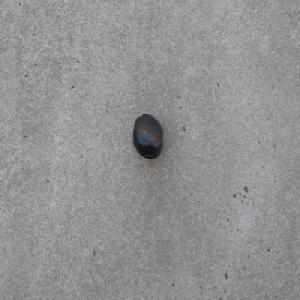FuelCap: (132, 113, 163, 160)
